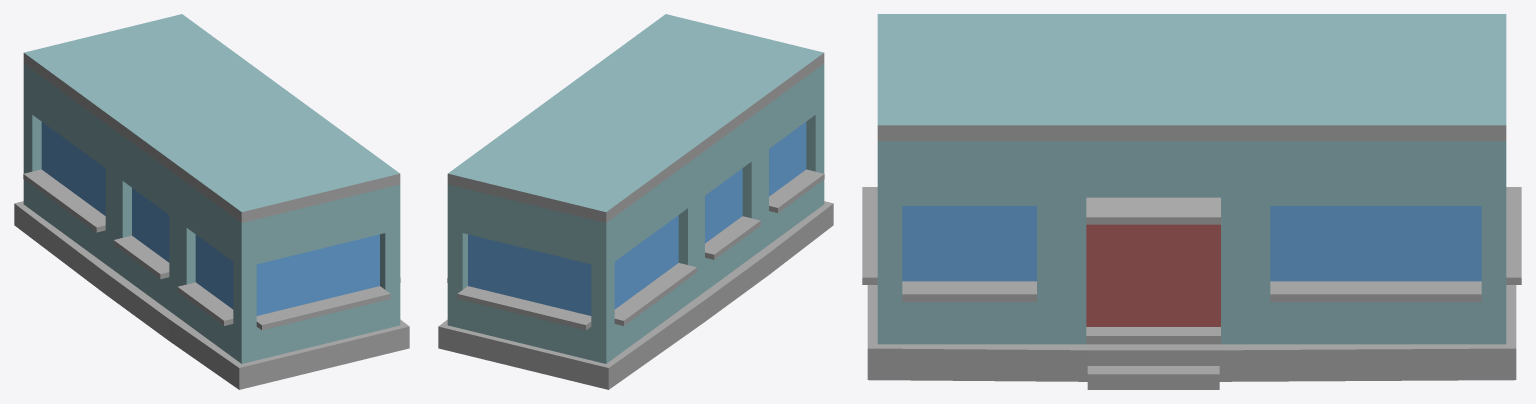
File: building_1x2_2_g_blue.glb
3 views of the same model, side by side, from view 1: azimuth 30°, elevation 25°; view 2: azimuth 150°, elevation 25°; view 3: azimuth 270°, elevation 25° (orthographic). The views are drawn at different scales.
Parts seen in each view (by area): view 1: Cube; view 2: Cube; view 3: Cube.
Boxes of the visible parts, x1=… form: Cube: x1=14, y1=14, x2=409, y2=389; Cube: x1=438, y1=14, x2=833, y2=389; Cube: x1=862, y1=14, x2=1521, y2=389.
Size of the model in its own units: 1.83 by 1.6 by 3.82.
